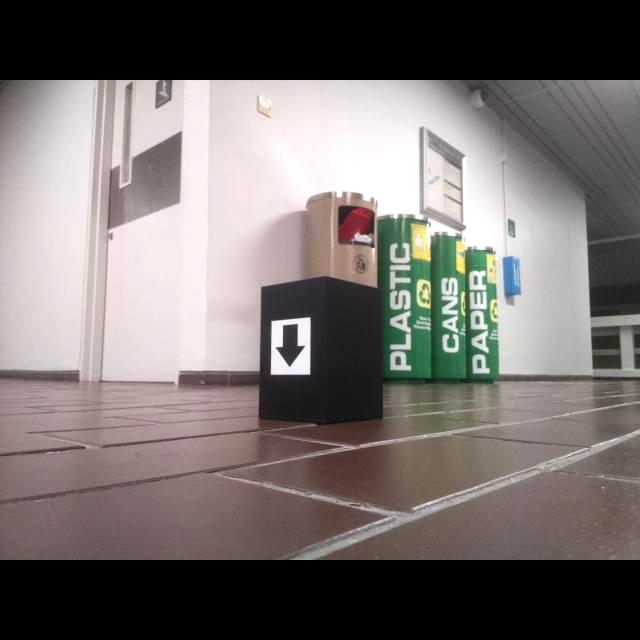DOWN: (273, 322, 306, 368)
